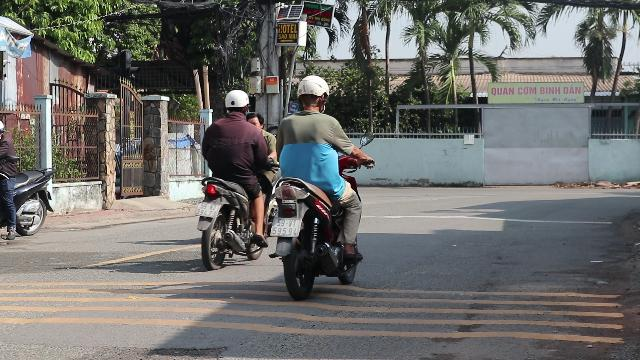helmet: (294, 74, 330, 112), (222, 88, 250, 118)
licenseplate: (272, 218, 300, 236), (196, 202, 220, 218)
motorcyclist: (266, 72, 370, 294), (192, 88, 272, 268)
